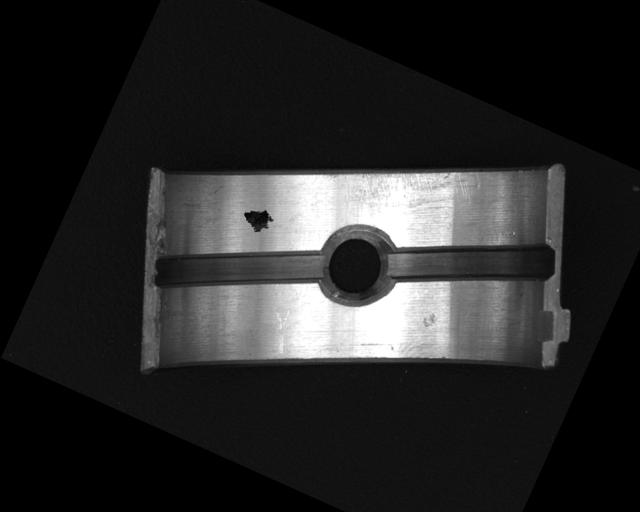blot: (237, 200, 278, 238)
bruise: (417, 309, 439, 332)
gap: (148, 194, 328, 343), (383, 189, 561, 333)
hole: (309, 213, 406, 316)
nick: (254, 299, 301, 355)
scratch: (332, 121, 483, 250)
